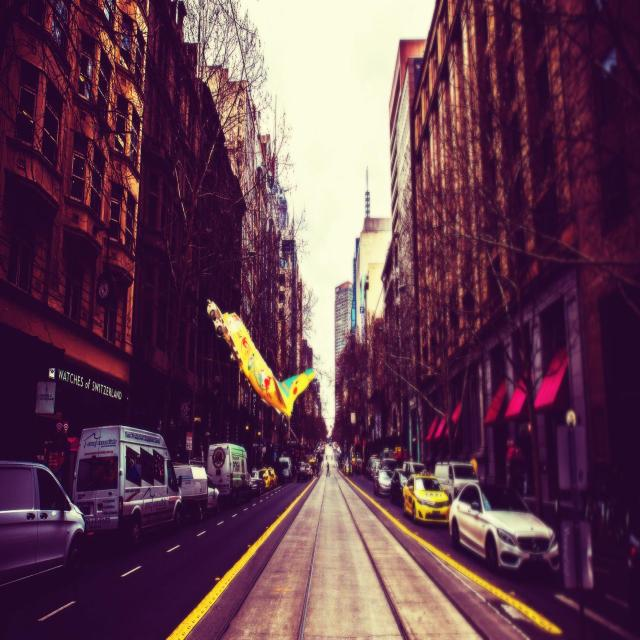airplane: (206, 299, 318, 417)
